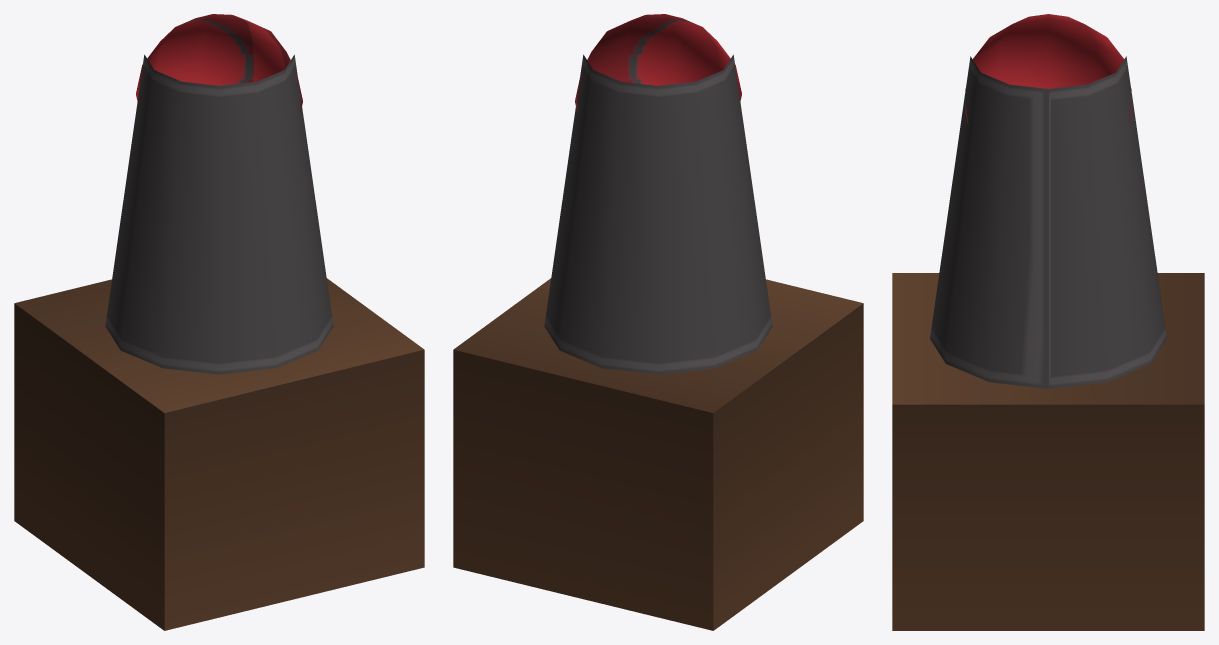
Rendered from training_dummy.glb.
3 views of the same model, side by side, from view 1: azimuth 30°, elevation 25°; view 2: azimuth 150°, elevation 25°; view 3: azimuth 270°, elevation 25° (orthographic). The views are drawn at different scales.
Parts seen in each view (by area): view 1: training_dummy; view 2: training_dummy; view 3: training_dummy.
Boxes of the visible parts, <box> form: training_dummy: <box>14,14,424,630</box>; training_dummy: <box>453,14,863,630</box>; training_dummy: <box>892,14,1204,630</box>.
Size of the model in its own units: 0.9 by 1.73 by 0.9.
1 material, 1 textured.
